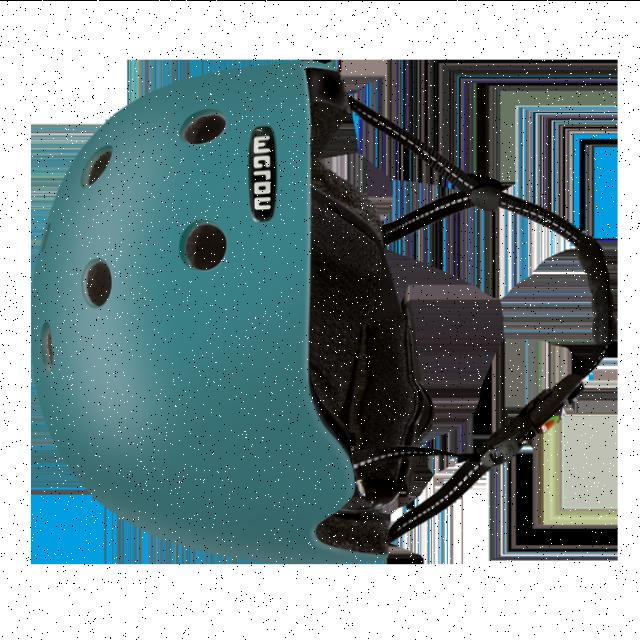Helmet: (29, 36, 403, 614)
